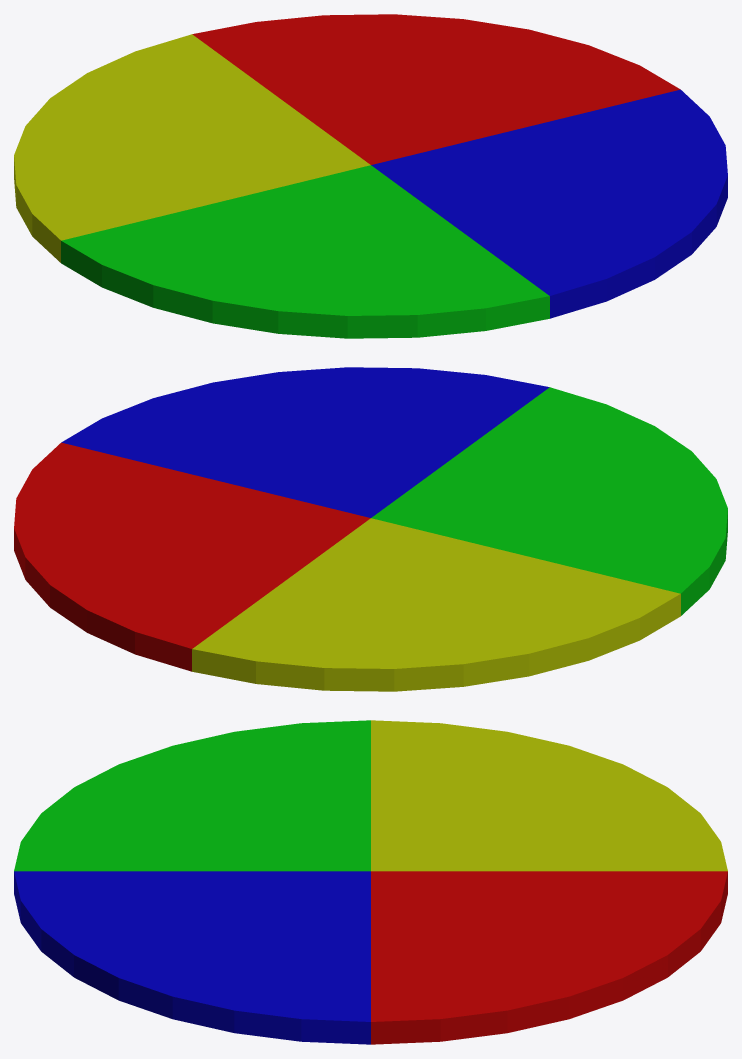
Rendered from 4area.fbx.
3 views of the same model, one above another, from view 1: azimuth 30°, elevation 25°; view 2: azimuth 150°, elevation 25°; view 3: azimuth 270°, elevation 25° (orthographic).
Parts seen in each view (by area): view 1: 円柱.002, 円柱.003, 円柱.001, 円柱; view 2: 円柱.001, 円柱, 円柱.002, 円柱.003; view 3: 円柱, 円柱.003, 円柱.001, 円柱.002.
Boxes of the visible parts, x1,y1,x2,y2 form: 円柱.002: (61, 165, 549, 338); 円柱.003: (371, 89, 727, 318); 円柱.001: (14, 34, 370, 262); 円柱: (192, 14, 680, 164); 円柱.001: (192, 518, 680, 691); 円柱: (14, 442, 370, 671); 円柱.002: (371, 387, 727, 615); 円柱.003: (61, 367, 549, 517); 円柱: (371, 871, 727, 1044); 円柱.003: (14, 871, 370, 1044); 円柱.001: (371, 720, 727, 871); 円柱.002: (14, 720, 370, 871).
Size of the model in its own units: 4 by 0.14 by 4.
